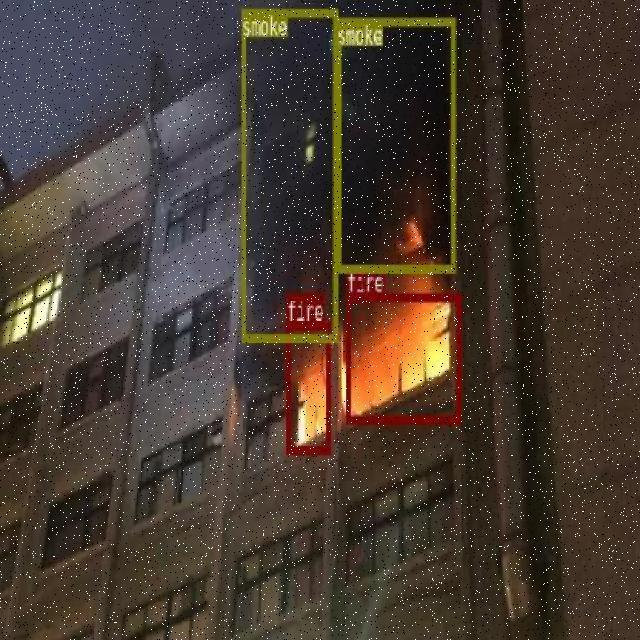Smoke: (240, 0, 337, 275), (334, 0, 454, 201)
